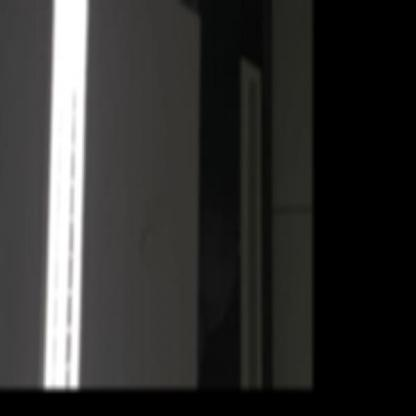light_on: (28, 0, 104, 389)
